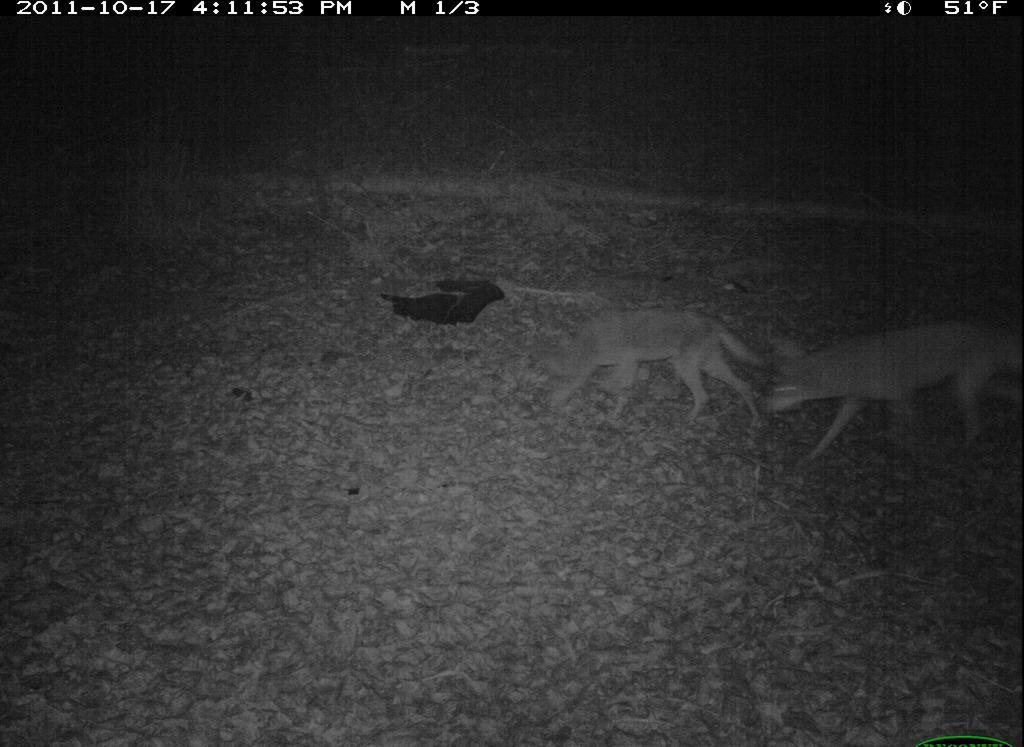coyote: (772, 312, 1022, 459), (541, 303, 769, 441)
